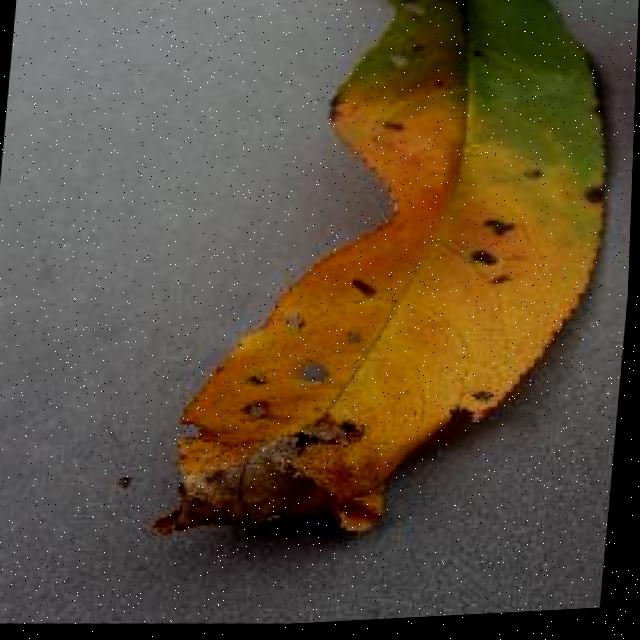Bacterial_spot: (140, 398, 381, 559), (459, 201, 544, 291), (233, 359, 288, 437), (343, 257, 412, 316), (365, 111, 420, 150), (579, 175, 612, 223)
